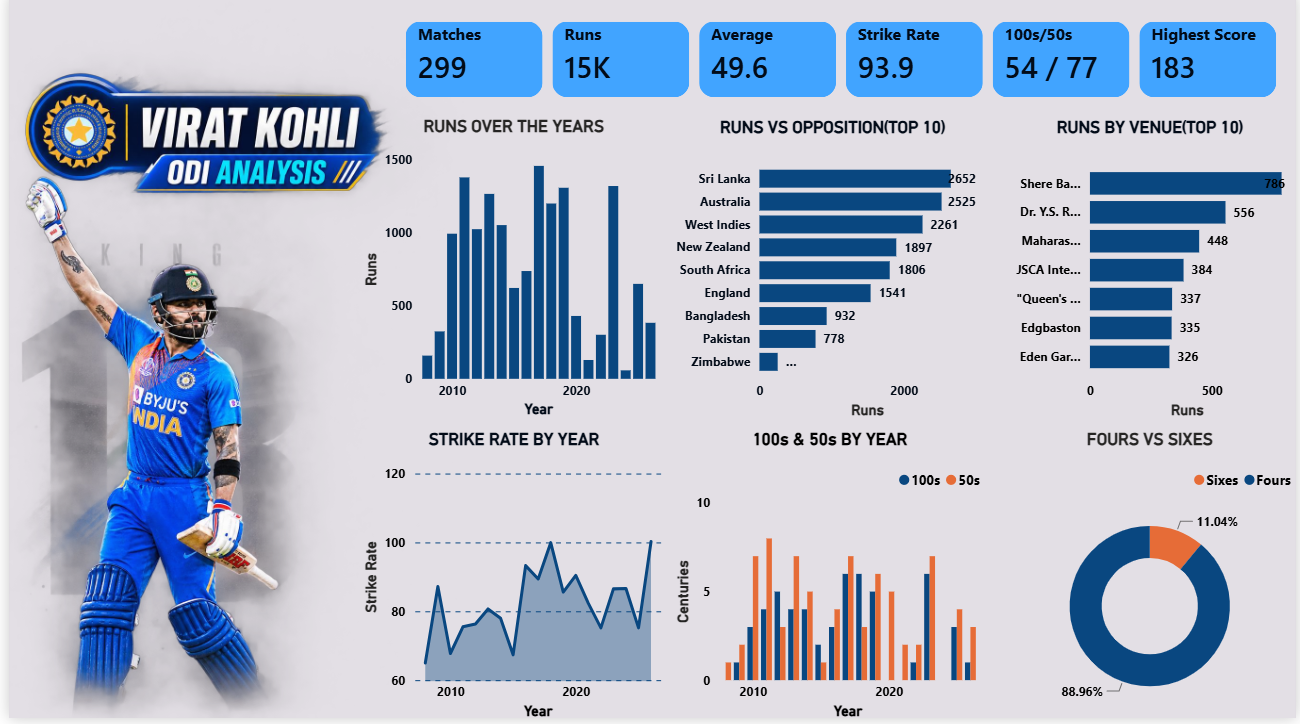

The page's visual inventory and layout, read from the dashboard file:
{"tool":"powerbi","page":{"name":"ODI","canvas":[1280,720],"ordinal":2},"visuals":[{"type":"cardVisual","fields":{"Data":["Virat_Kohli_Master.ODI Matches","Virat_Kohli_Master.ODI Runs","Virat_Kohli_Master.ODI Average","Virat_Kohli_Master.ODI Strike Rate","Virat_Kohli_Master.ODI 100s 50s","Virat_Kohli_Master.ODI Highest Score"]},"box":[377,11.1,903.5,109],"z":0},{"type":"clusteredColumnChart","title":"RUNS OVER THE YEARS","fields":{"Category":["Virat_Kohli_Master.Date.Variation.Date Hierarchy.Year"],"Y":["Sum(Virat_Kohli_Master.Runs)"]},"box":[351.5,120.9,300,300],"z":1000},{"type":"clusteredBarChart","title":"RUNS VS OPPOSITION(TOP 10)","fields":{"Category":["Virat_Kohli_Master.Opponent"],"Y":["Sum(Virat_Kohli_Master.Runs)"]},"box":[663.3,122.5,313.4,299],"z":2000},{"type":"clusteredBarChart","title":"RUNS BY VENUE(TOP 10)","fields":{"Category":["Virat_Kohli_Master.Venue"],"Y":["Sum(Virat_Kohli_Master.Runs)"]},"box":[989.4,122.5,291.1,299],"z":3000},{"type":"lineChart","title":"STRIKE RATE BY YEAR","fields":{"Category":["Virat_Kohli_Master.Date.Variation.Date Hierarchy.Year"],"Y":["Avg(Virat_Kohli_Master.Strike Rate)"]},"box":[351.5,432.6,300.6,287.9],"z":4000},{"type":"clusteredColumnChart","title":"100s & 50s BY YEAR","fields":{"Category":["Virat_Kohli_Master.Date.Variation.Date Hierarchy.Year"],"Y":["Virat_Kohli_Master.ODI 100s","Virat_Kohli_Master.ODI 50s"]},"box":[663.3,432.6,313.4,287.9],"z":5000},{"type":"donutChart","title":"FOURS VS SIXES","fields":{"Y":["Sum(Virat_Kohli_Master.Sixes)","Sum(Virat_Kohli_Master.Fours)"]},"box":[989.4,432.6,291.1,287.9],"z":6000}]}

Visuals, with their boxes in screenshot pixels (x1, y1, x2, y2), scaled from the page's 1280x720 canvas onto the 1300x724 screenshot:
cardVisual - Virat_Kohli_Master.ODI Matches x Virat_Kohli_Master.ODI Runs: (383, 11, 1299, 121)
"RUNS OVER THE YEARS" clusteredColumnChart: (357, 122, 662, 423)
"RUNS VS OPPOSITION(TOP 10)" clusteredBarChart: (674, 123, 992, 424)
"RUNS BY VENUE(TOP 10)" clusteredBarChart: (1005, 123, 1299, 424)
"STRIKE RATE BY YEAR" lineChart: (357, 435, 662, 723)
"100s & 50s BY YEAR" clusteredColumnChart: (674, 435, 992, 723)
"FOURS VS SIXES" donutChart: (1005, 435, 1299, 723)
